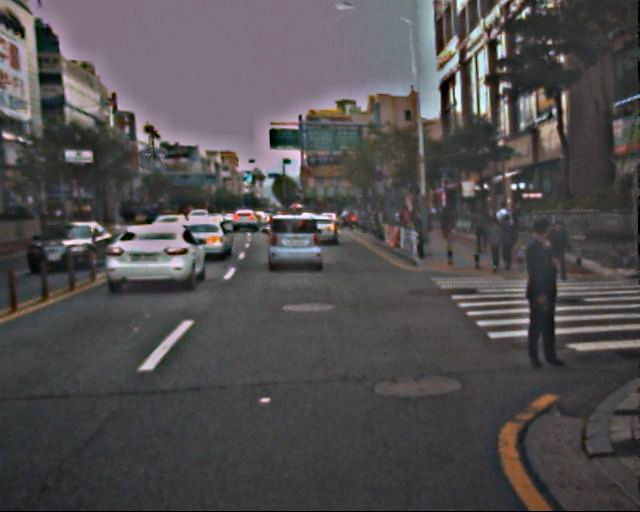person: (505, 217, 569, 372), (545, 220, 571, 284), (497, 213, 520, 270), (492, 200, 515, 257), (482, 215, 504, 269), (470, 206, 488, 250), (439, 207, 452, 239)
